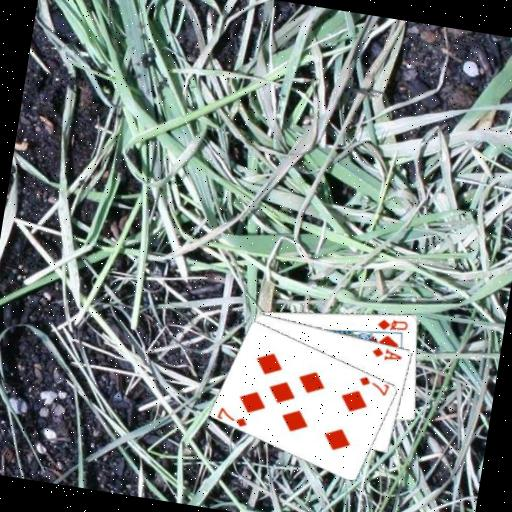7D: (354, 372, 391, 399), (213, 402, 251, 428)
AD: (368, 343, 404, 364)
QD: (374, 313, 410, 335)
